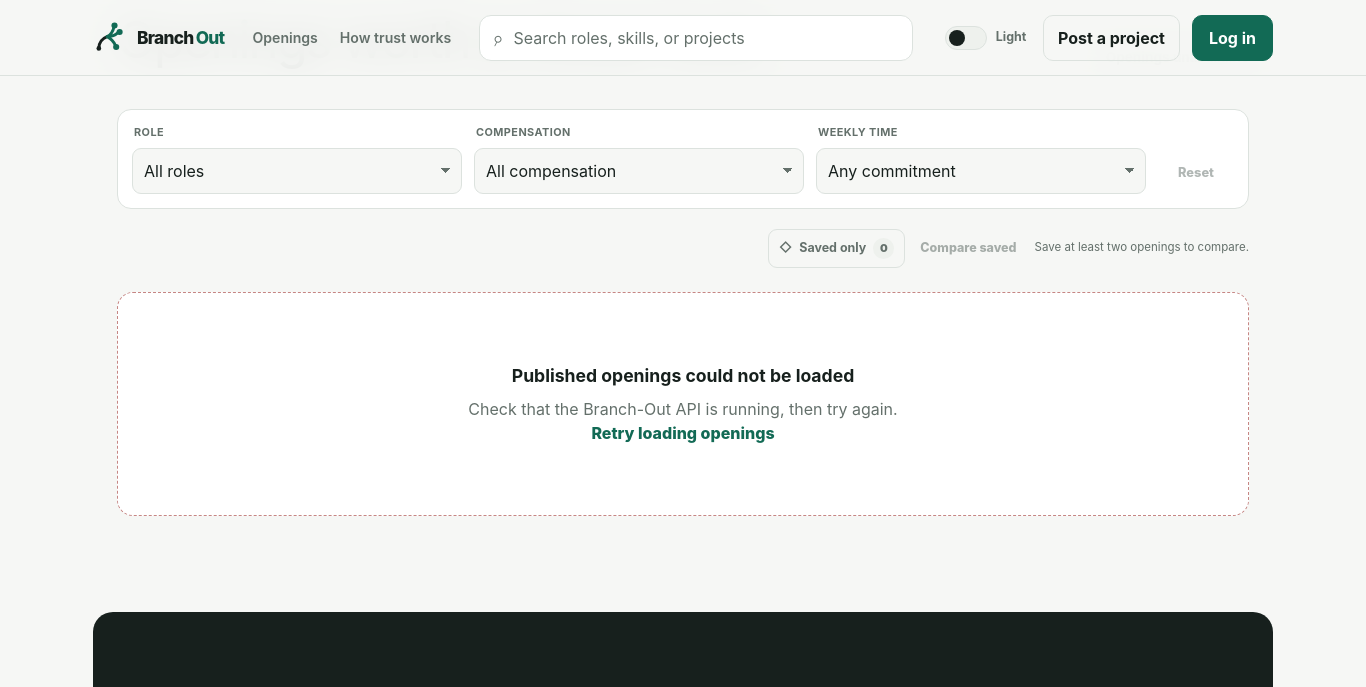
Test: HomeExperience › shows a retryable error instead of sample data when discovery is unavailable
(page scrolled)
Expected: the message shows "could not be loaded", [512, 365, 854, 386]
Expected: the text "Openings unavailable" is shown, [1106, 47, 1249, 67]
Click the button "Retry loading openings" at (683, 433), box [591, 421, 774, 445]
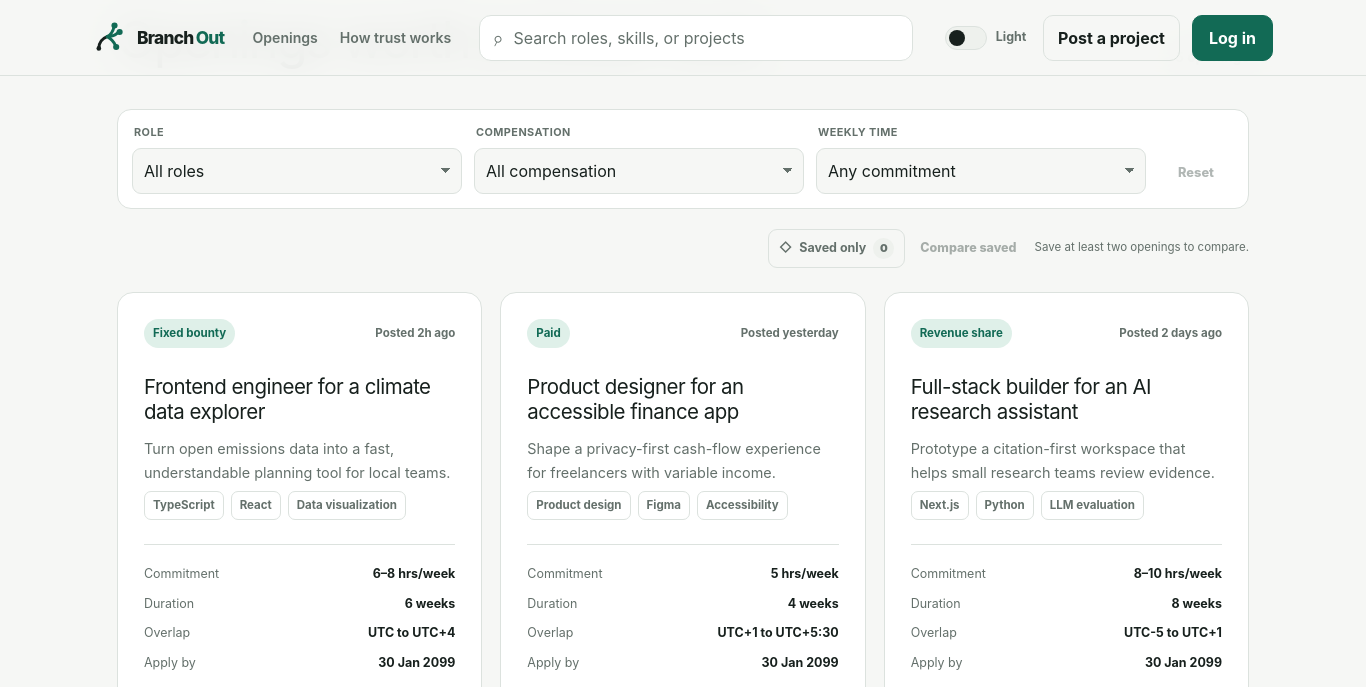
Now the heading "Frontend engineer for a climate data explorer" is shown, box [144, 374, 455, 425]
